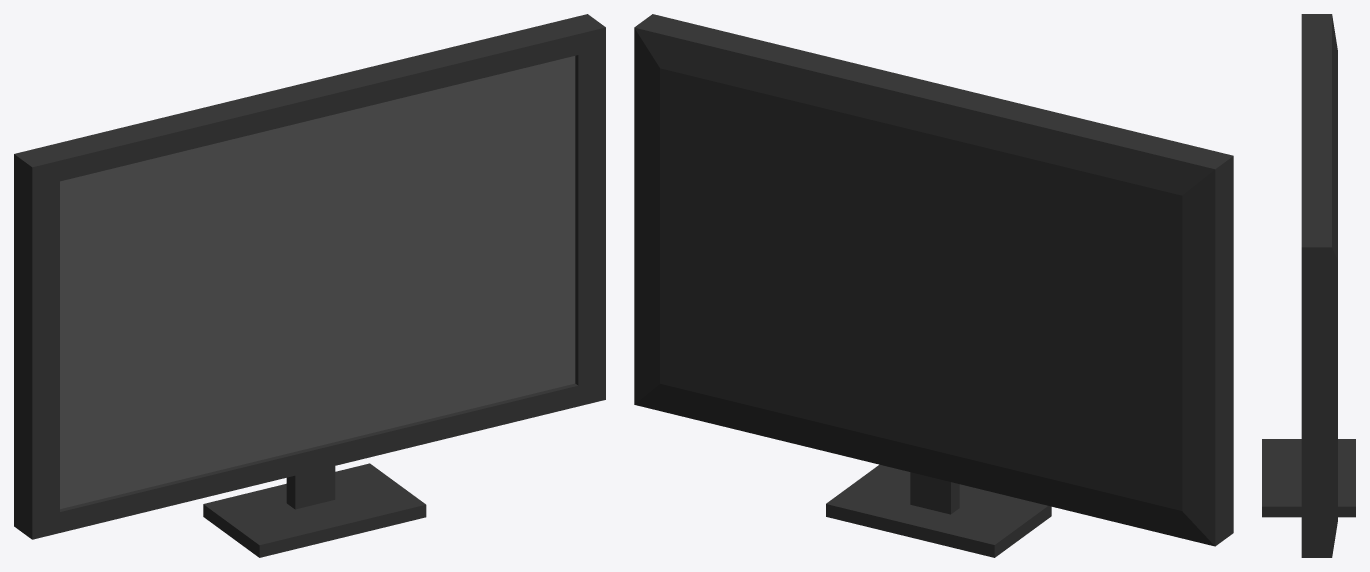
The picture shows the model from 3 angles, left to right: view 1: azimuth 30°, elevation 25°; view 2: azimuth 150°, elevation 25°; view 3: azimuth 270°, elevation 25°; orthographic projection. The views are drawn at different scales.
Visible parts, largest first — view 1: TV; view 2: TV; view 3: TV.
Part boxes in pixels (box(x1,y1,x2,y2)): TV: box(14, 14, 605, 557); TV: box(634, 14, 1233, 557); TV: box(1262, 14, 1355, 557).
Size of the model in its own units: 1.45 by 1.02 by 0.2471.
